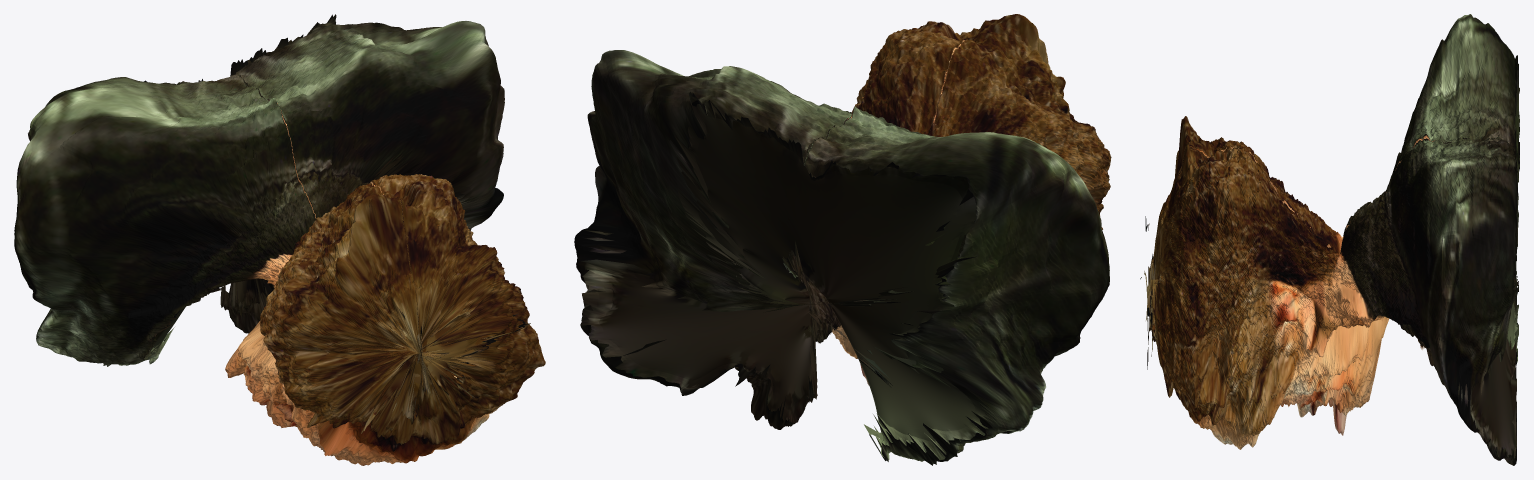
Rendered from mesh_filled.glb.
3 renders of one model, left to right at view 1: azimuth 30°, elevation 25°; view 2: azimuth 150°, elevation 25°; view 3: azimuth 270°, elevation 25°, orthographic. The views are drawn at different scales.
Visible parts, largest first — view 1: ipn, fill; view 2: ipn, fill; view 3: ipn, fill.
Part boxes in pixels (x1,y1,x2,y2): ipn: (14,14,545,465); fill: (144,22,496,419); ipn: (574,14,1111,465); fill: (580,100,993,459); ipn: (1140,14,1519,465); fill: (1147,63,1519,458).
Size of the model in its own units: 1.77 by 1.14 by 1.23.
2 materials, 1 textured.
